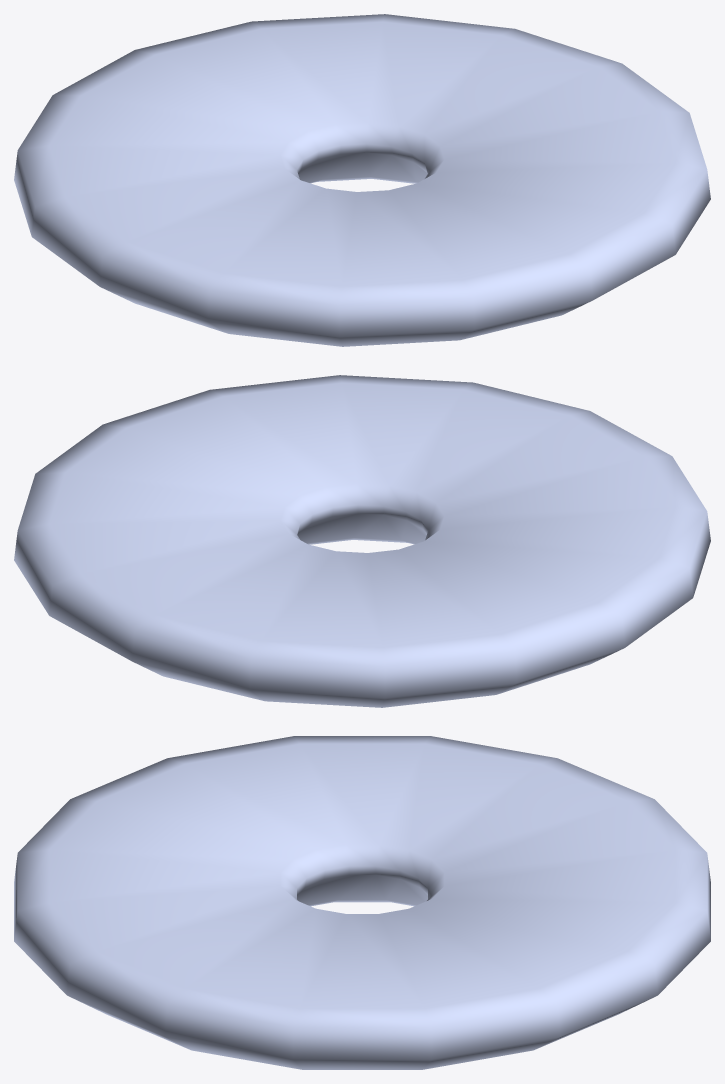
The model's file is Elevator_02.fbx.
The picture shows the model from 3 angles, top to bottom: view 1: azimuth 30°, elevation 25°; view 2: azimuth 150°, elevation 25°; view 3: azimuth 270°, elevation 25°; orthographic projection.
Visible parts, largest first — view 1: Elevator_02; view 2: Elevator_02; view 3: Elevator_02.
Boxes of the visible parts, x1,y1,x2,y2 form: Elevator_02: (14, 14, 710, 346); Elevator_02: (14, 375, 710, 707); Elevator_02: (14, 736, 710, 1069).
Size of the model in its own units: 1913 by 260 by 1913.
